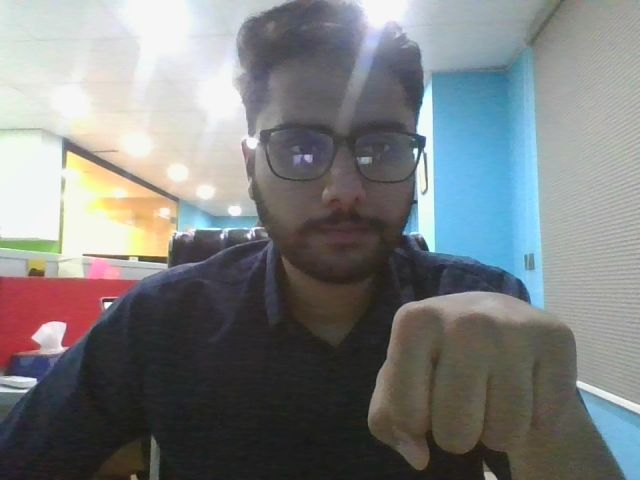yes: (349, 283, 603, 480)
